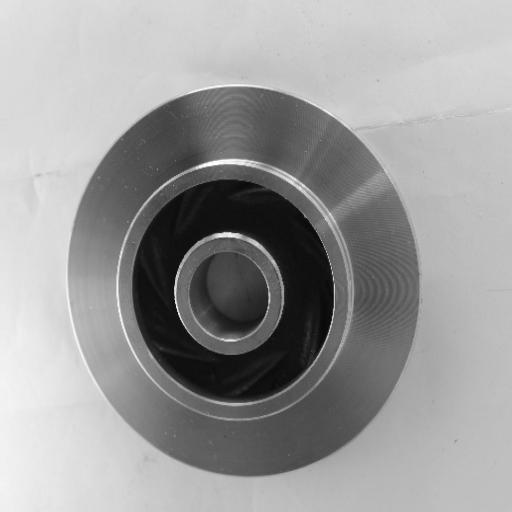polished_casting: (63, 83, 424, 478)
